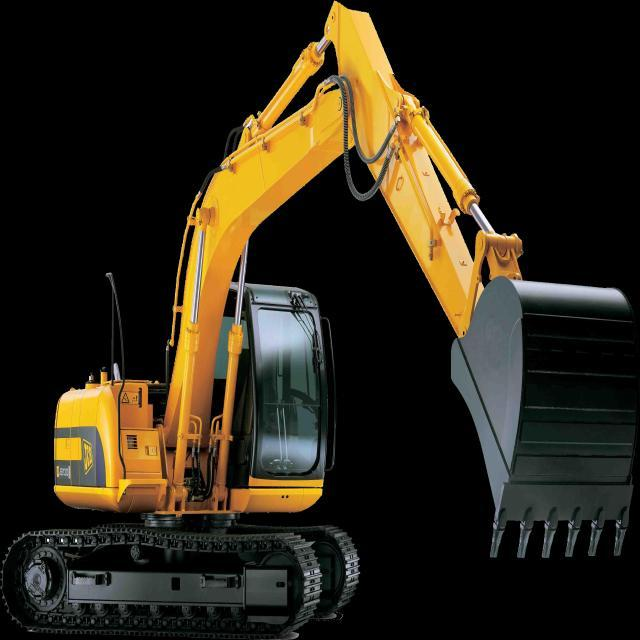C_E: (1, 1, 640, 638)
